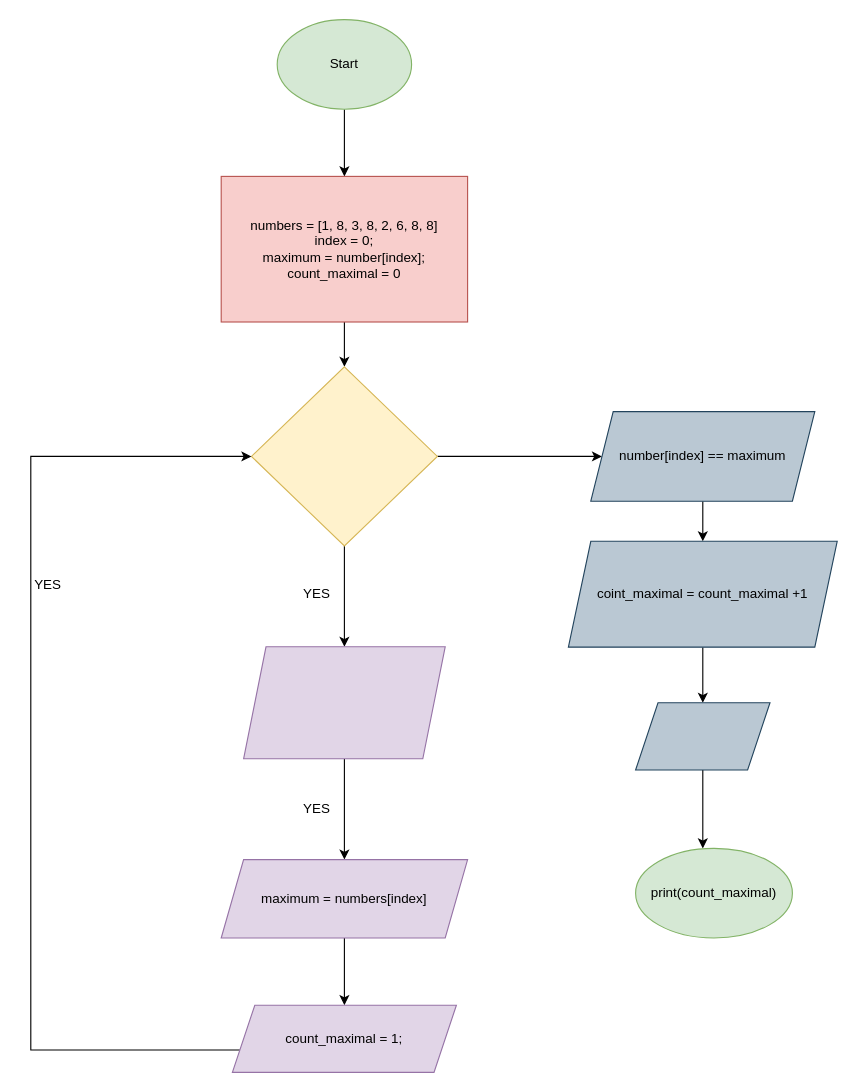
Image size: 857x1092. Some labels were removed from this diagram. The centre of each missing label's shape, as x and y in pixels:
index < number.length: (x=343, y=456)
index++: (x=702, y=736)
number[index] > maximum: (x=343, y=702)
